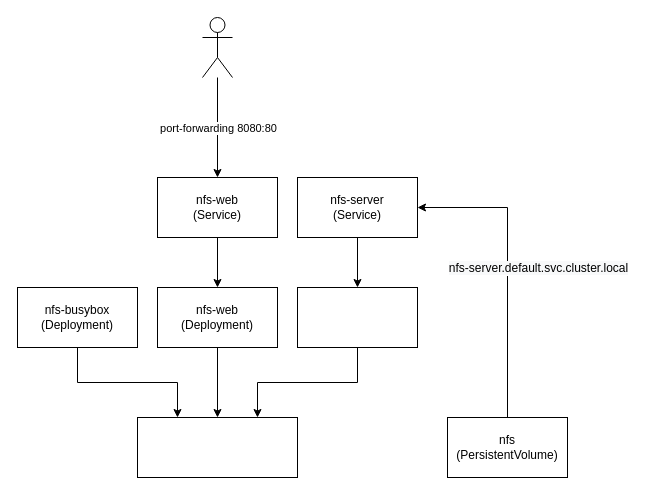
The diagram is 645 pixels wide and 495 high, and some of its shapes have lost their labels. Here are the shapes that lost their labels. From the top down, the centre of each, then its label:
At pixel 357 317: "nfs-server (Deployment)".
At pixel 217 447: "nfs (PersistentVolumeClaim)".
